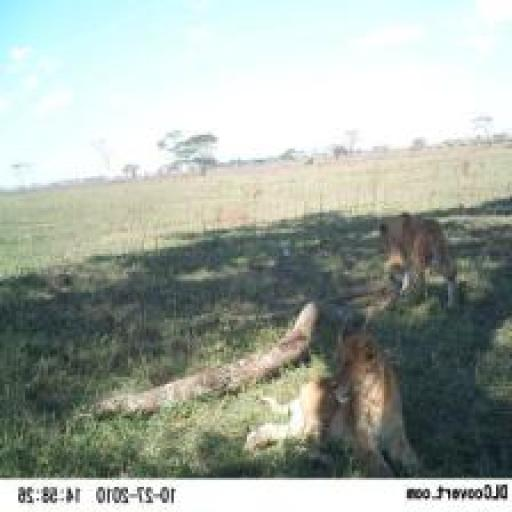lion: (233, 327, 432, 484), (359, 203, 476, 310)
